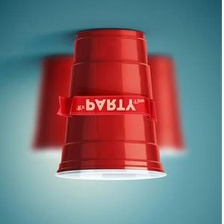glass: (52, 22, 168, 184)
